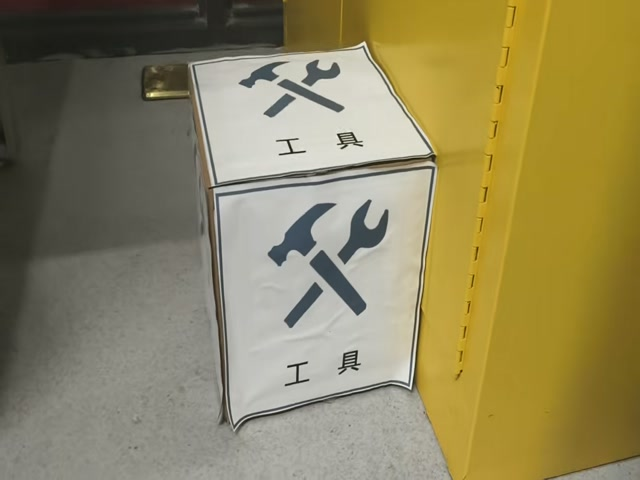Cube_tool: (192, 48, 436, 189)
